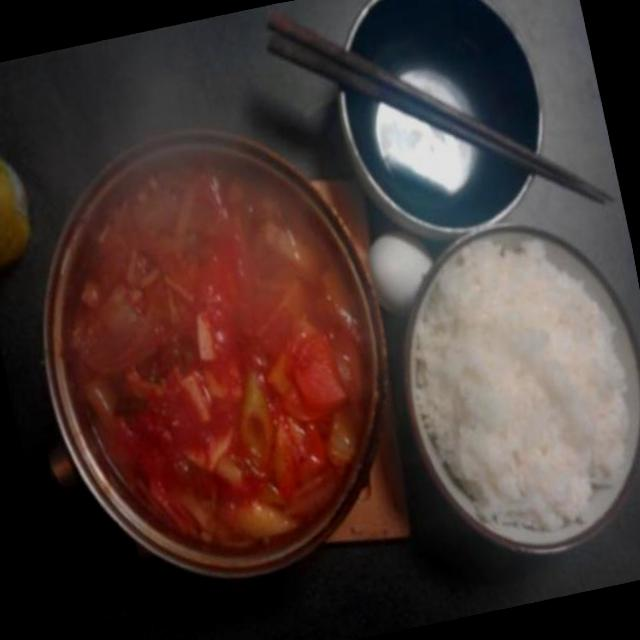Rice: (391, 217, 640, 539)
